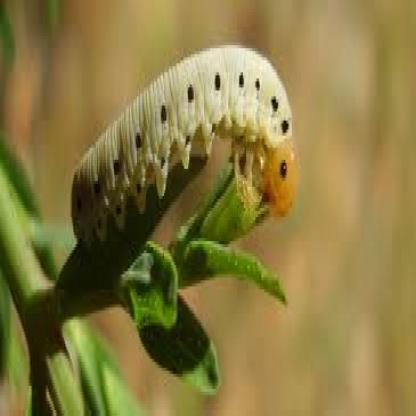sawfly: (69, 41, 299, 250)
